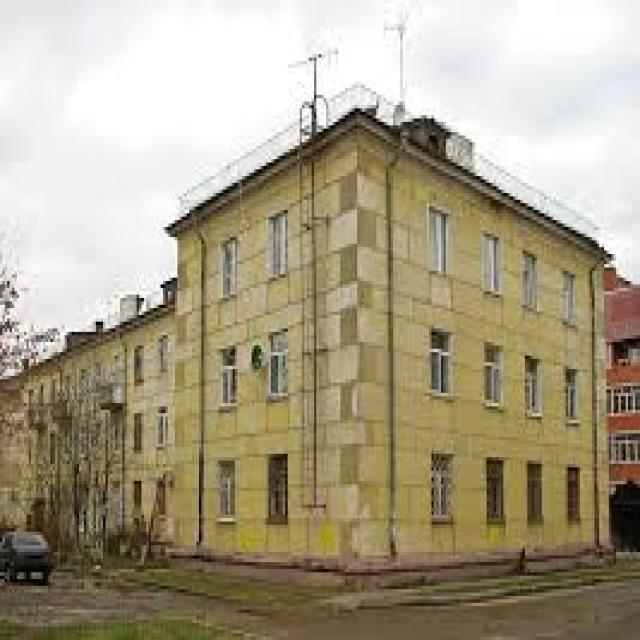window: (429, 454, 458, 528), (211, 460, 240, 525), (266, 460, 293, 525), (484, 339, 504, 420), (427, 213, 448, 281), (429, 332, 451, 396), (520, 248, 539, 318), (566, 468, 585, 538), (214, 349, 238, 403), (520, 359, 539, 427), (268, 217, 288, 281), (486, 457, 504, 525), (527, 461, 544, 532), (271, 335, 290, 393), (563, 271, 580, 332), (220, 244, 238, 301), (563, 372, 580, 427), (484, 237, 496, 288)
